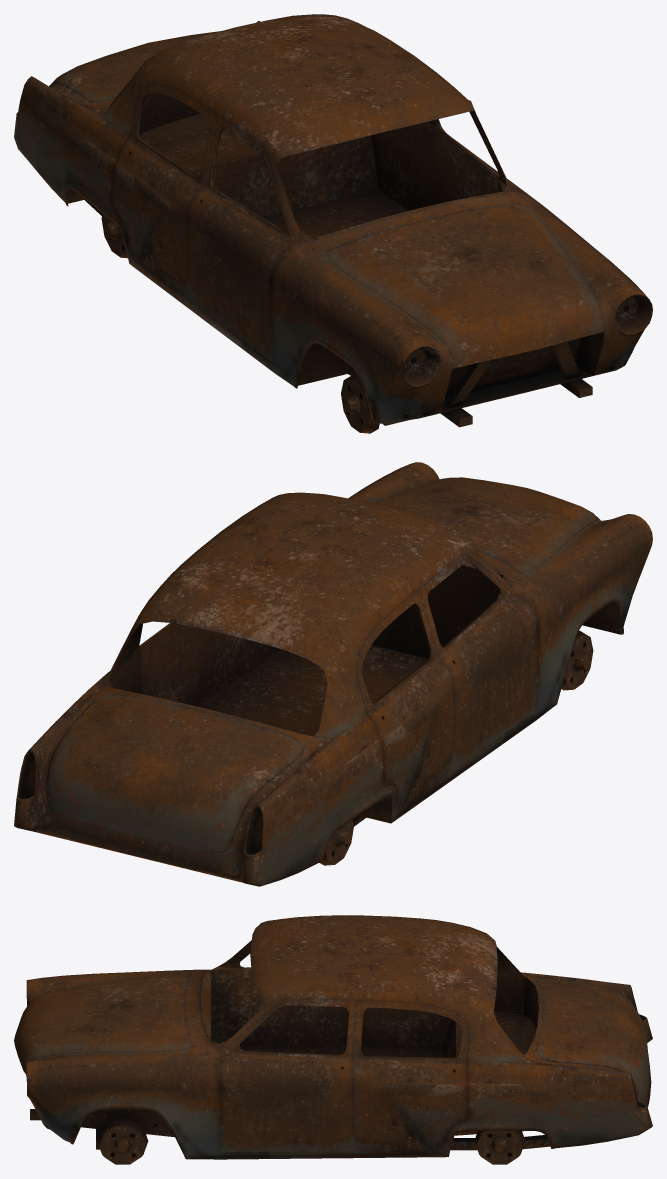
Rendered from car2.obj.
3 renders of one model, top to bottom at view 1: azimuth 30°, elevation 25°; view 2: azimuth 150°, elevation 25°; view 3: azimuth 270°, elevation 25°, orthographic. The views are drawn at different scales.
Visible parts, largest first — view 1: Object005_Untitled; view 2: Object005_Untitled; view 3: Object005_Untitled.
Boxes of the visible parts, left/top/right/bottom form: Object005_Untitled: left=14, top=14, right=652, bottom=433; Object005_Untitled: left=14, top=462, right=652, bottom=886; Object005_Untitled: left=14, top=915, right=652, bottom=1164.
Size of the model in its own units: 1.81 by 1.45 by 4.62.
Materials: 1 (1 with a texture image).
